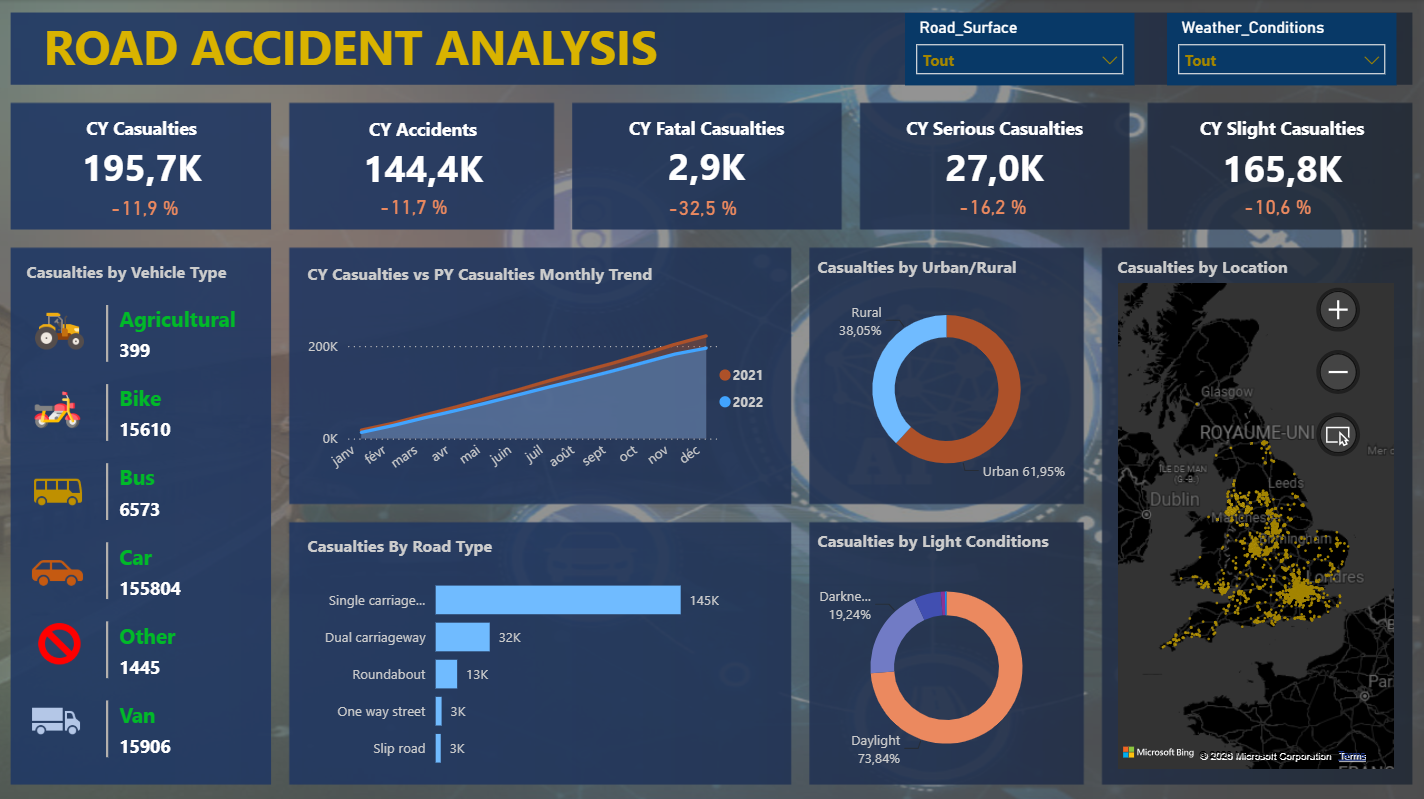

What the dashboard file says about the page in this screenshot:
{"tool":"powerbi","page":{"name":"Page 1","canvas":[1280,720],"ordinal":0},"visuals":[{"type":"textbox","box":[35,8.1,881.6,95.2],"z":0},{"type":"card","title":"CY Serious Casualties","fields":{"Values":["Measures (2).CY Casualties"]},"box":[784.6,104.8,218.2,70.9],"z":0,"group":"g3"},{"type":"card","title":"CY Fatal Casualties","fields":{"Values":["Measures (2).CY Casualties"]},"box":[529.7,105,211,69.1],"z":0,"group":"g2"},{"type":"card","title":"CY Slight Casualties","fields":{"Values":["Measures (2).CY Casualties"]},"box":[1045,105,213.7,71.3],"z":0,"group":"g4"},{"type":"group","id":"g1","title":"Groupe 1","box":[21.5,105,212.8,102.3],"z":1000},{"type":"card","title":"CY Casualties","fields":{"Values":["Measures (2).CY Casualties"]},"box":[21.5,105,212.8,69.9],"z":1000,"group":"g1"},{"type":"card","title":"CY Accidents","fields":{"Values":["Measures (2).CY Accident"]},"box":[272,105.9,217.3,70.8],"z":1000,"group":"g5"},{"type":"card","fields":{"Values":["Measures (2).YOY Casualties"]},"box":[855.9,167.3,72.9,38.9],"z":1000,"group":"g3"},{"type":"card","fields":{"Values":["Measures (2).YOY Casualties"]},"box":[1111.2,167.8,72.9,38.6],"z":1000,"group":"g4"},{"type":"card","fields":{"Values":["Measures (2).YOY Casualties"]},"box":[595.5,168.7,72.7,37.7],"z":1000,"group":"g2"},{"type":"group","id":"g2","title":"Groupe 2","box":[529.7,105,211,101.4],"z":2000},{"type":"card","fields":{"Values":["Measures (2).YOY Accident"]},"box":[335.7,167.9,72.7,37.7],"z":2000,"group":"g5"},{"type":"group","id":"g3","title":"Groupe 3","box":[784.6,104.8,218.2,101.4],"z":3000},{"type":"group","id":"g4","title":"Groupe 4","box":[1045,105,213.7,101.4],"z":4000},{"type":"image","box":[18.9,269.3,70.9,57.5],"z":5000},{"type":"card","fields":{"Values":["Measures (2).YOY Casualties"]},"box":[87.4,167.8,87.1,39.5],"z":5001,"group":"g1"},{"type":"multiRowCard","fields":{"Values":["Data.Vehicle_Type (groupes)","Measures (2).CY Casualties"]},"box":[90.7,269.3,143.6,435.4],"z":6000},{"type":"image","box":[26.9,340.2,51.2,57.5],"z":7000},{"type":"image","box":[21.5,413.9,62.8,57.5],"z":8000},{"type":"image","box":[22.4,480.3,60.1,70],"z":9000},{"type":"image","box":[24.2,550.3,60.1,57.5],"z":10000},{"type":"image","box":[19.8,619.5,62.8,57.5],"z":11000},{"type":"barChart","title":"Casualties By Road Type","fields":{"Category":["Data.Road_Type"],"Y":["Measures (2).CY Casualties"]},"box":[272,480.3,429.1,224.4],"z":12000},{"type":"donutChart","title":"Casualties by Urban/Rural","fields":{"Category":["Data.Urban_or_Rural_Area"],"Y":["Measures (2).CY Casualties"]},"box":[729.9,229.8,241.5,220.8],"z":13000},{"type":"donutChart","title":"Casualties by Light Conditions","fields":{"Y":["Measures (2).CY Casualties"],"Category":["Data.Light_Conditions"]},"box":[729.9,475.8,241.5,228.9],"z":14000},{"type":"slicer","fields":{"Values":["Data.Road_Surface_Conditions"]},"box":[813.4,12.6,206.5,64.6],"z":15000},{"type":"slicer","fields":{"Values":["Data.Weather_Conditions"]},"box":[1048.6,12.6,206.5,64.6],"z":16000},{"type":"group","id":"g5","title":"Groupe 5","box":[272,105.9,217.3,99.7],"z":17000},{"type":"map","title":"Casualties by Location","fields":{"Y":["Data.Latitude"],"X":["Data.Longitude"],"Size":["CountNonNull(Data.Accident_Index)"]},"box":[999.2,229.8,257.7,465.9],"z":18000},{"type":"areaChart","title":"CY Casualties vs PY Casualties Monthly Trend","fields":{"Category":["Calendar.Month"],"Y":["Measures (2).CY Casualties"],"Series":["Calendar.Year"]},"box":[272,236.1,429.1,206.5],"z":19000},{"type":"textbox","box":[19.8,229.8,206.5,34.1],"z":20000}]}

Visuals, with their boxes in screenshot pixels (x1, y1, x2, y2), scaled from the page's 1280x720 canvas onto the 1424x799 screenshot:
textbox: detection(39, 9, 1020, 115)
"CY Serious Casualties" card: detection(873, 116, 1116, 195)
"CY Fatal Casualties" card: detection(589, 117, 824, 193)
"CY Slight Casualties" card: detection(1163, 117, 1400, 196)
"Groupe 1" group: detection(24, 117, 261, 230)
"CY Casualties" card: detection(24, 117, 261, 194)
"CY Accidents" card: detection(303, 118, 544, 196)
card - Measures (2).YOY Casualties: detection(952, 186, 1033, 229)
card - Measures (2).YOY Casualties: detection(1236, 186, 1317, 229)
card - Measures (2).YOY Casualties: detection(662, 187, 743, 229)
"Groupe 2" group: detection(589, 117, 824, 229)
card - Measures (2).YOY Accident: detection(373, 186, 454, 228)
"Groupe 3" group: detection(873, 116, 1116, 229)
"Groupe 4" group: detection(1163, 117, 1400, 229)
image: detection(21, 299, 100, 363)
card - Measures (2).YOY Casualties: detection(97, 186, 194, 230)
multiRowCard - Data.Vehicle_Type (groupes) x Measures (2).CY Casualties: detection(101, 299, 261, 782)
image: detection(30, 378, 87, 441)
image: detection(24, 459, 94, 523)
image: detection(25, 533, 92, 611)
image: detection(27, 611, 94, 674)
image: detection(22, 687, 92, 751)
"Casualties By Road Type" barChart: detection(303, 533, 780, 782)
"Casualties by Urban/Rural" donutChart: detection(812, 255, 1081, 500)
"Casualties by Light Conditions" donutChart: detection(812, 528, 1081, 782)
slicer - Data.Road_Surface_Conditions: detection(905, 14, 1135, 86)
slicer - Data.Weather_Conditions: detection(1167, 14, 1396, 86)
"Groupe 5" group: detection(303, 118, 544, 228)
"Casualties by Location" map: detection(1112, 255, 1398, 772)
"CY Casualties vs PY Casualties Monthly Trend" areaChart: detection(303, 262, 780, 491)
textbox: detection(22, 255, 252, 293)
